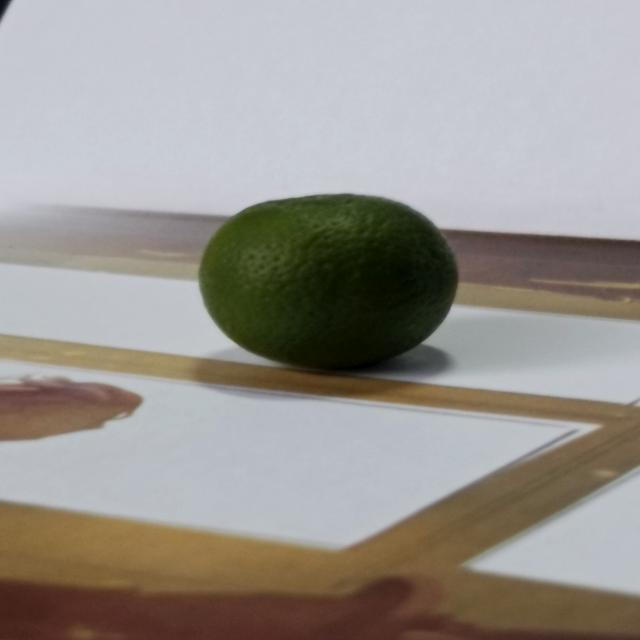heathy: (196, 190, 468, 372)
